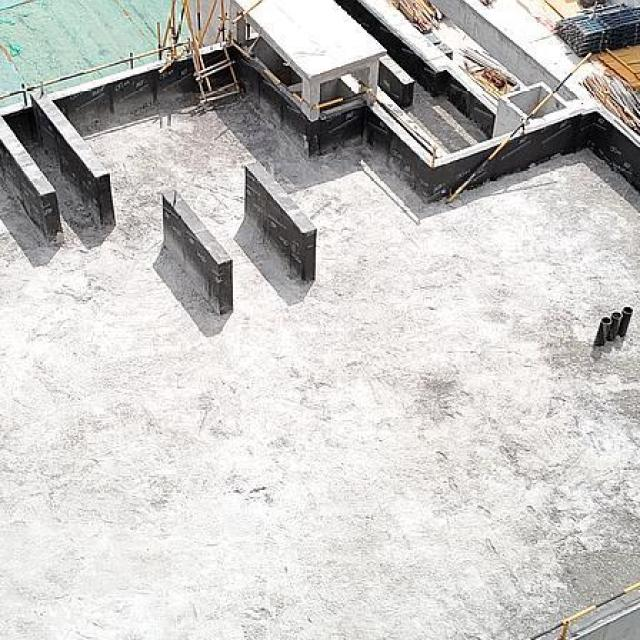edge_guardrail: (445, 50, 592, 203), (0, 37, 191, 105), (311, 86, 436, 164), (520, 580, 640, 640), (254, 57, 304, 102), (603, 90, 640, 126)
